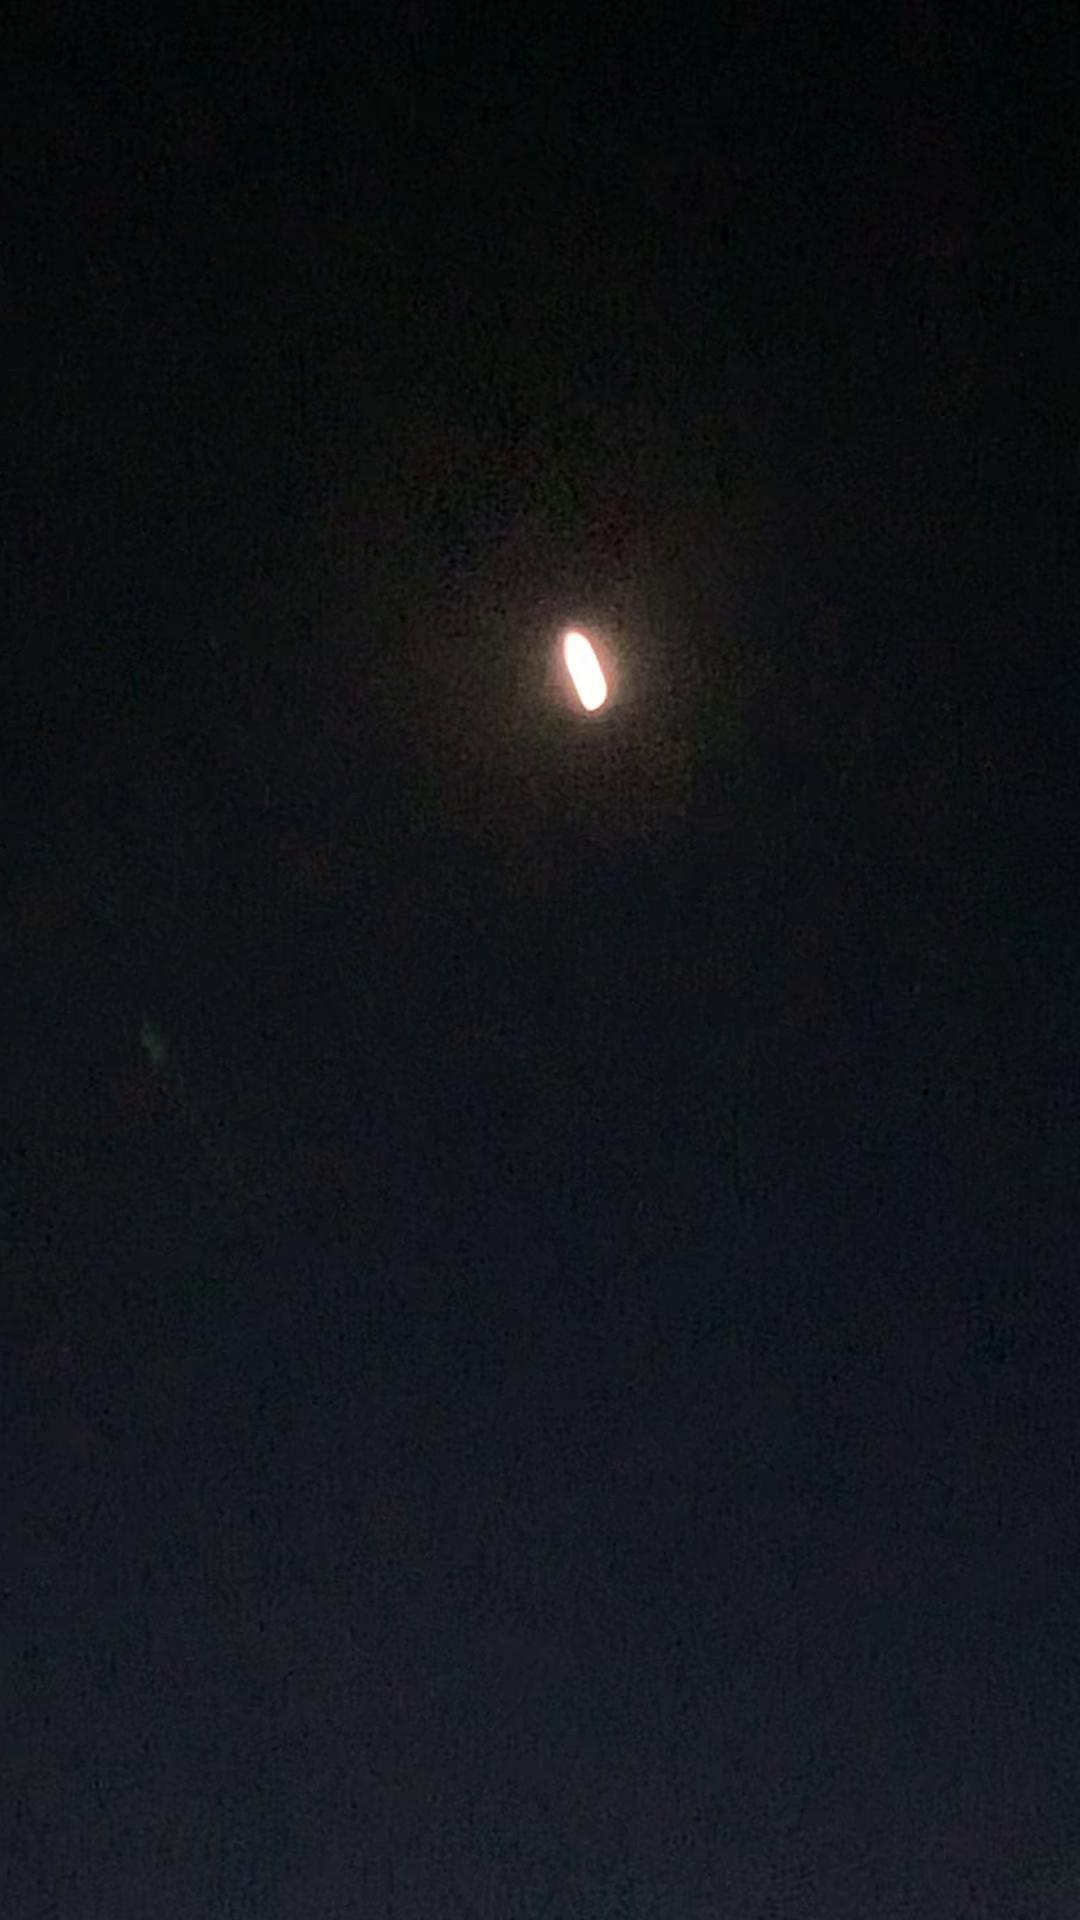moon: (550, 622, 625, 702)
